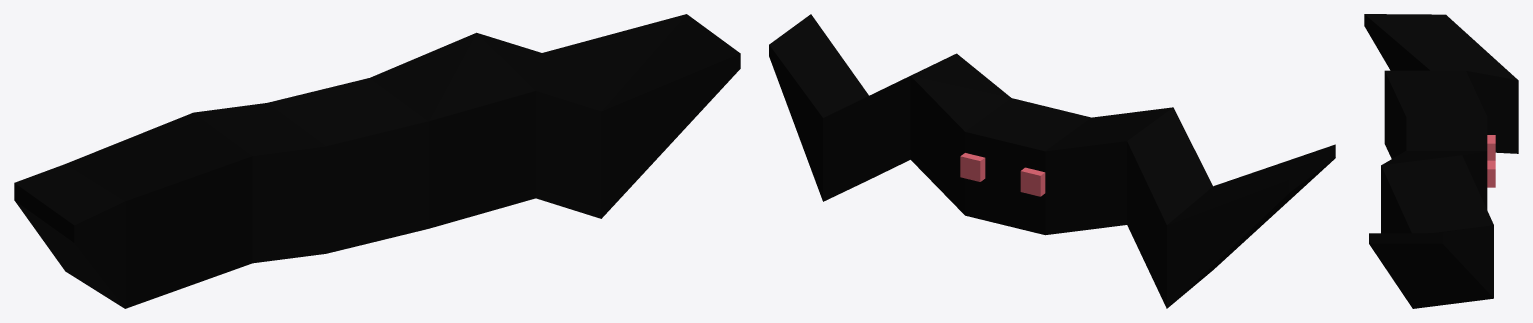
Rendered from Edwards's Bat.dae.
3 renders of one model, left to right at view 1: azimuth 30°, elevation 25°; view 2: azimuth 150°, elevation 25°; view 3: azimuth 270°, elevation 25°, orthographic. The views are drawn at different scales.
Visible parts, largest first — view 1: Cube; view 2: Cube; view 3: Cube.
Part boxes in pixels (box(x1,y1,x2,y2)): Cube: box(14, 14, 740, 308); Cube: box(769, 14, 1335, 308); Cube: box(1364, 14, 1518, 308).
Size of the model in its own units: 13.04 by 3.8 by 3.38.
